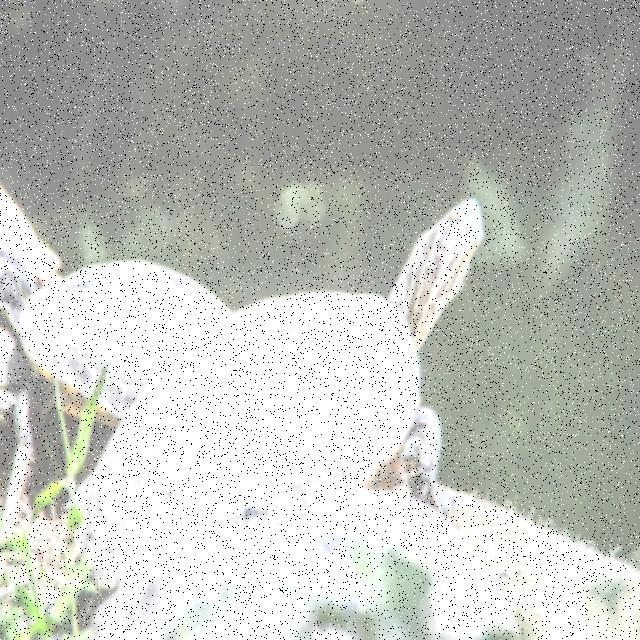tortoise: (188, 201, 486, 514)
